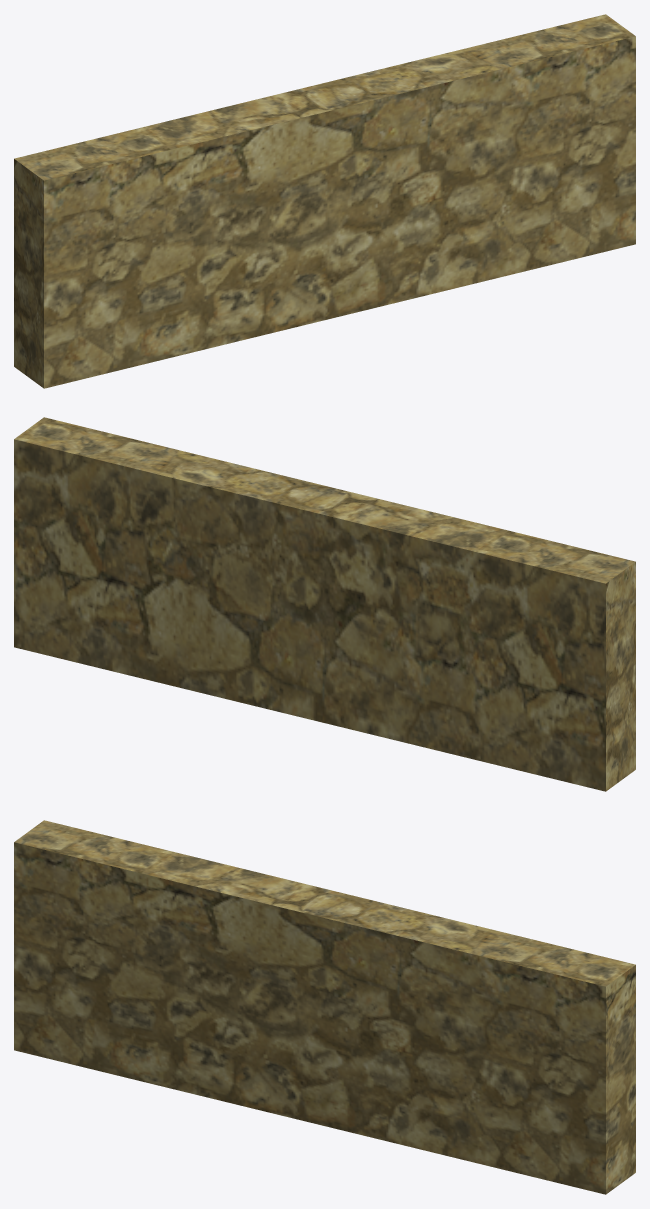
Rendered from fence_rock_medium_0.glb.
3 renders of one model, top to bottom at view 1: azimuth 30°, elevation 25°; view 2: azimuth 150°, elevation 25°; view 3: azimuth 330°, elevation 25°, orthographic.
Parts seen in each view (by area): view 1: m_props_rock_fence_medium_mesh; view 2: m_props_rock_fence_medium_mesh; view 3: m_props_rock_fence_medium_mesh.
Part boxes in pixels (<box>): m_props_rock_fence_medium_mesh: <box>14,14,635,388</box>; m_props_rock_fence_medium_mesh: <box>14,417,635,791</box>; m_props_rock_fence_medium_mesh: <box>14,820,635,1194</box>.
Bounding box in the file's own units: 10.07 × 3.38 × 0.8873.
1 material, 1 textured.
